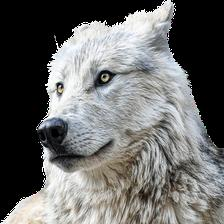WOLF: (39, 17, 224, 224)
